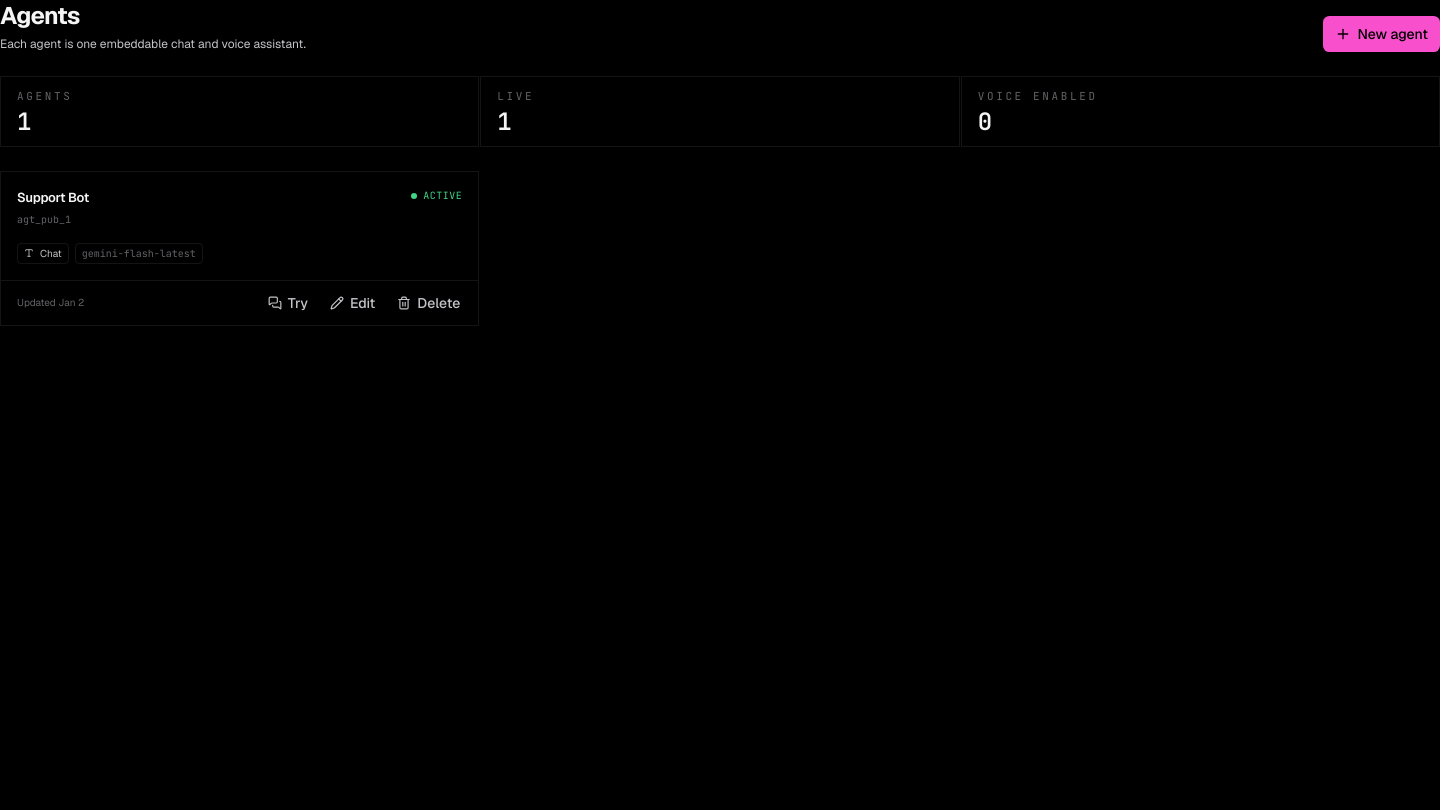
Test: AgentsPage › deletes an agent after confirming, and removes it from the table
Expected: the heading "Support Bot" is shown, [17,189,89,206]
Click the button "Delete".
click(429, 303)  # box [387,287,470,319]
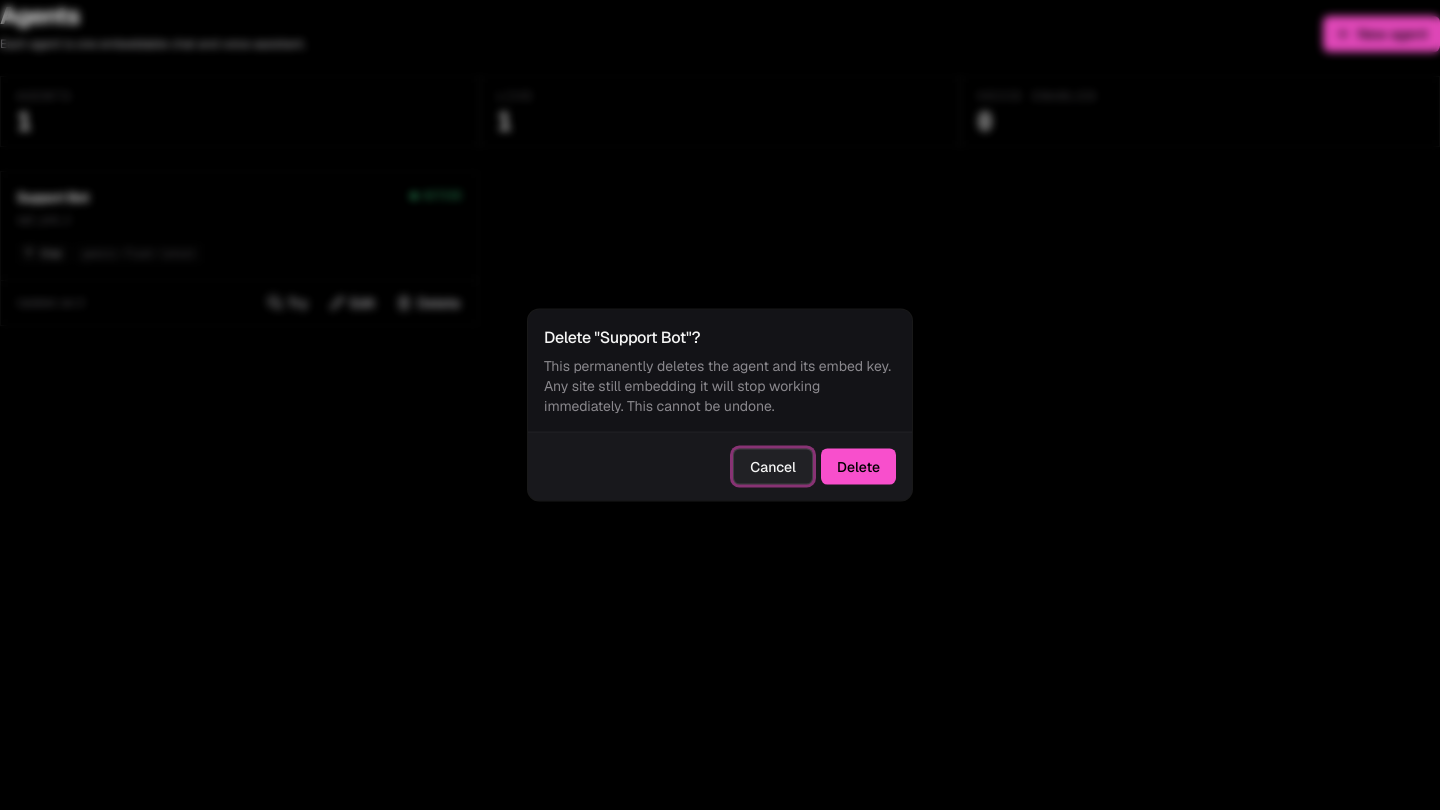
Expected: the heading "Delete \"Support Bot\"?" is shown, [544,326,700,350]
Click the button "Delete".
click(858, 466)  # box [821,448,896,484]
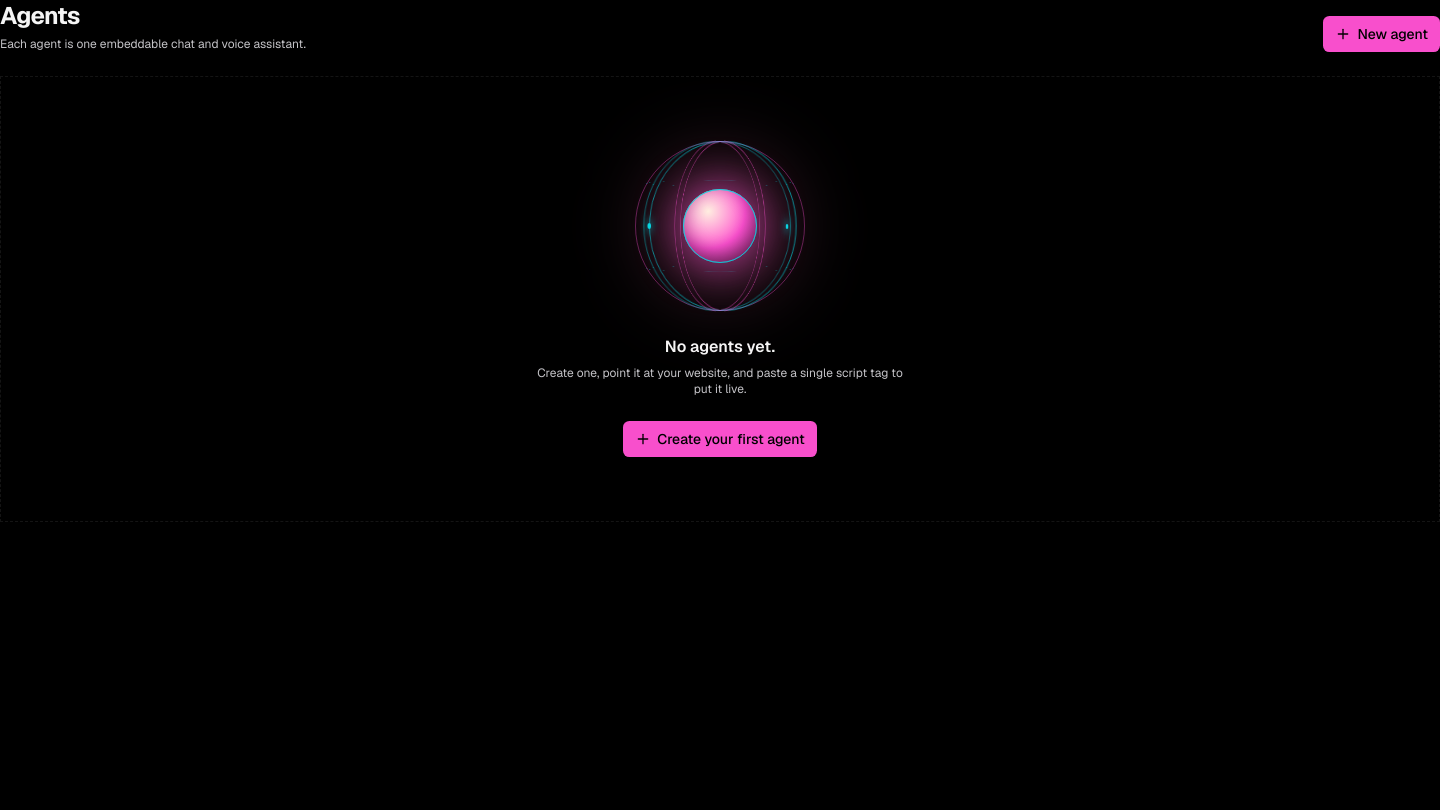
Expected: the heading "Support Bot" is gone
